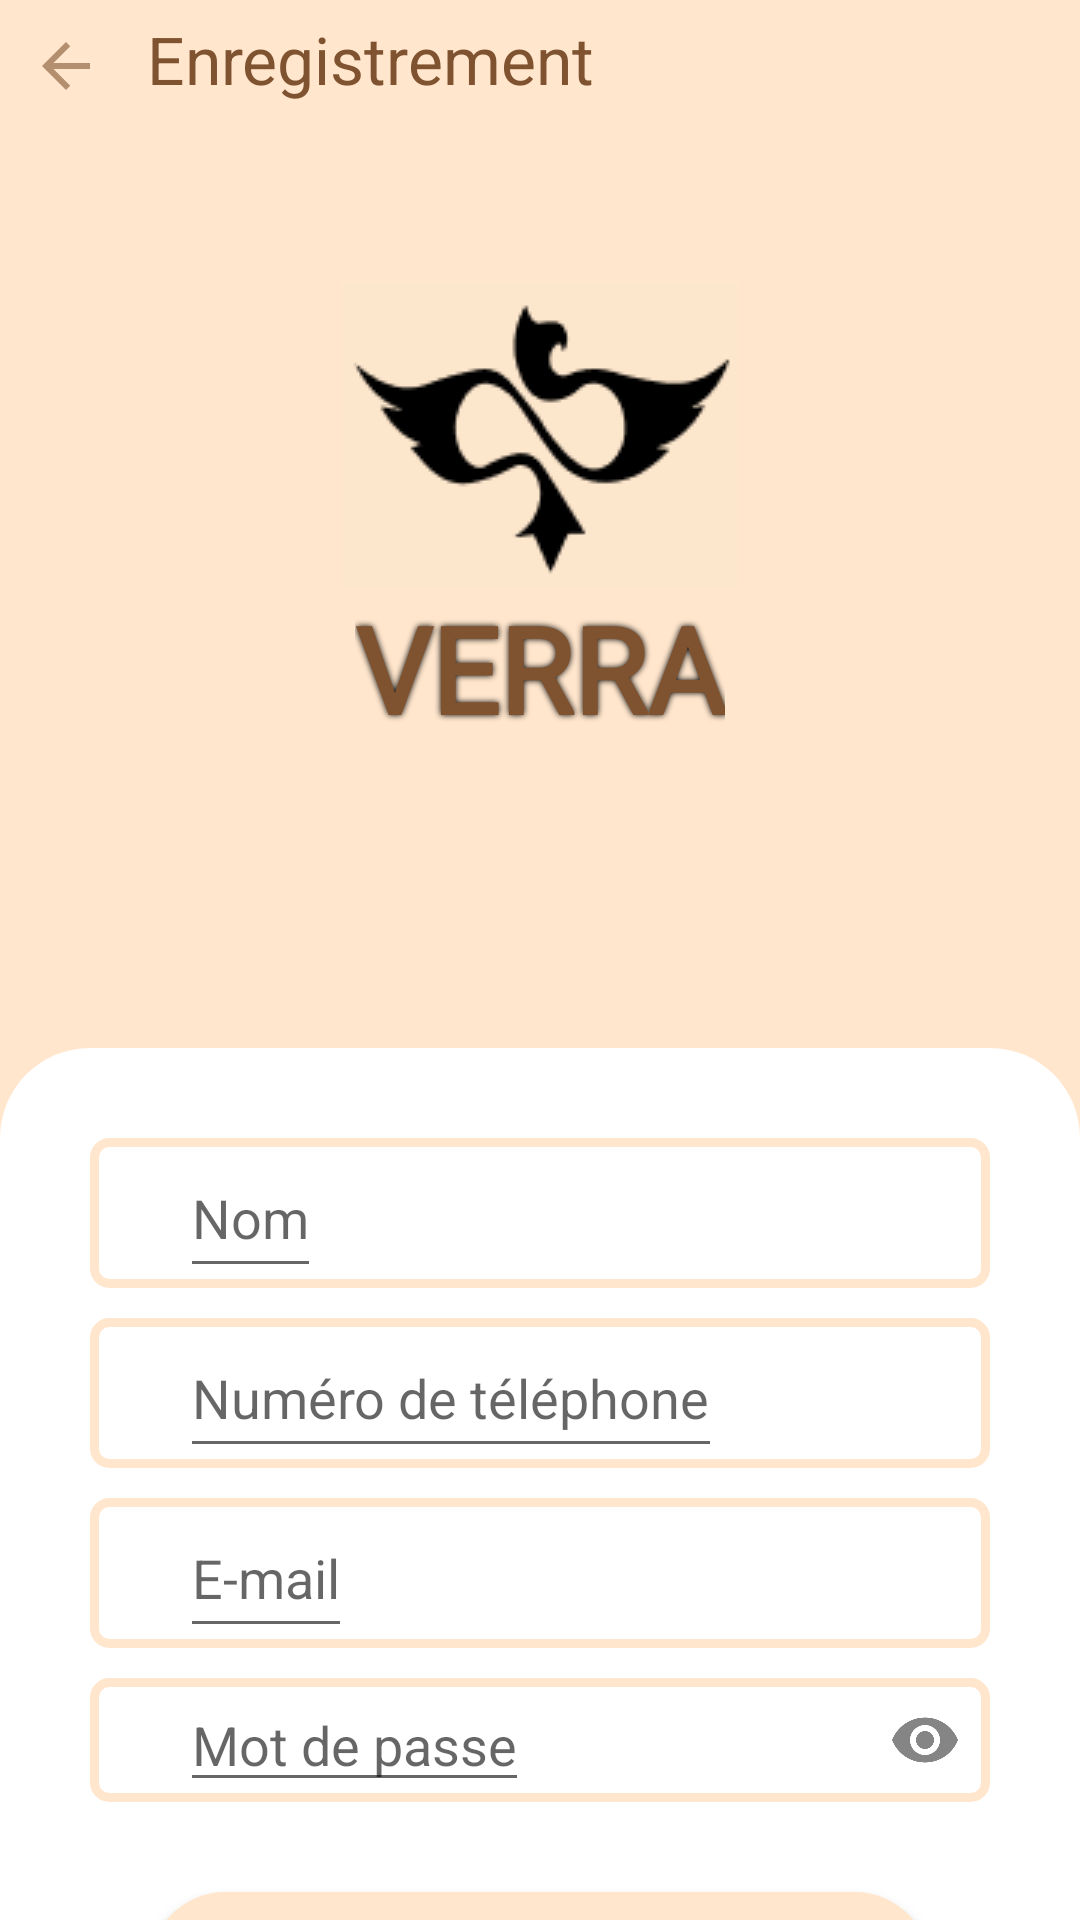

Where icons sit on this 1080*1920 app screen, as (x1,y1,x2,y2):
back: (42,42,90,90)
eye: (892,1717,958,1763)
